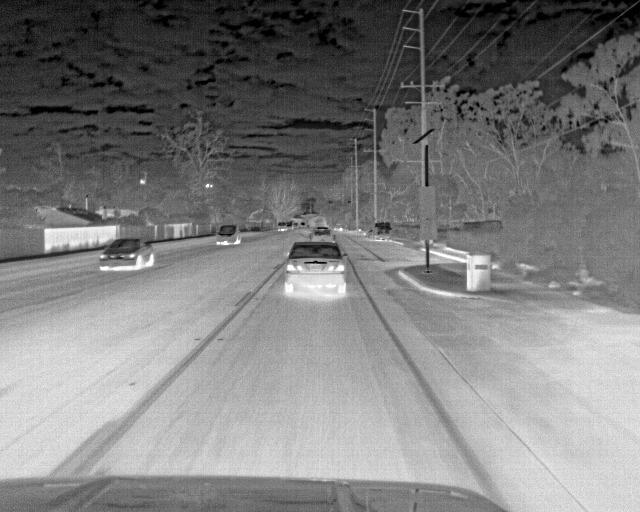car: (285, 242, 347, 293), (100, 238, 154, 270), (216, 225, 242, 244), (310, 229, 336, 243), (373, 222, 392, 238), (278, 222, 288, 231), (333, 224, 343, 232), (366, 229, 374, 238), (287, 221, 294, 230), (294, 223, 299, 229), (300, 222, 306, 227)
light: (140, 172, 146, 184)
sign: (418, 186, 435, 218), (420, 219, 437, 240)
